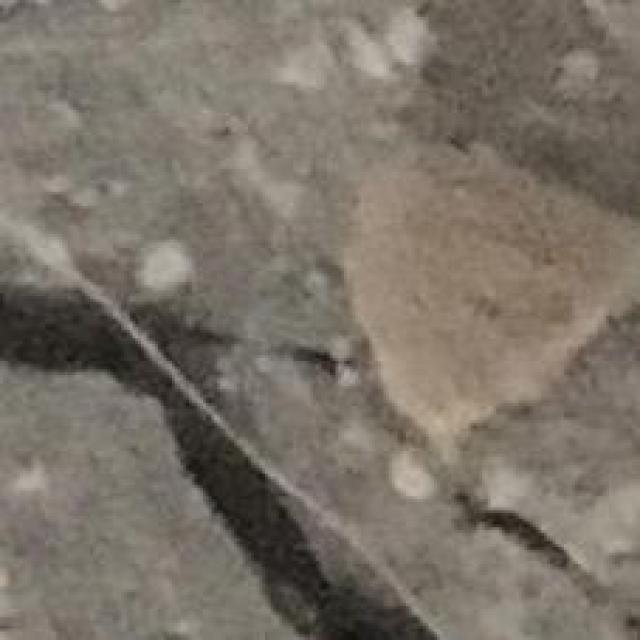Radial: (0, 277, 628, 640)
